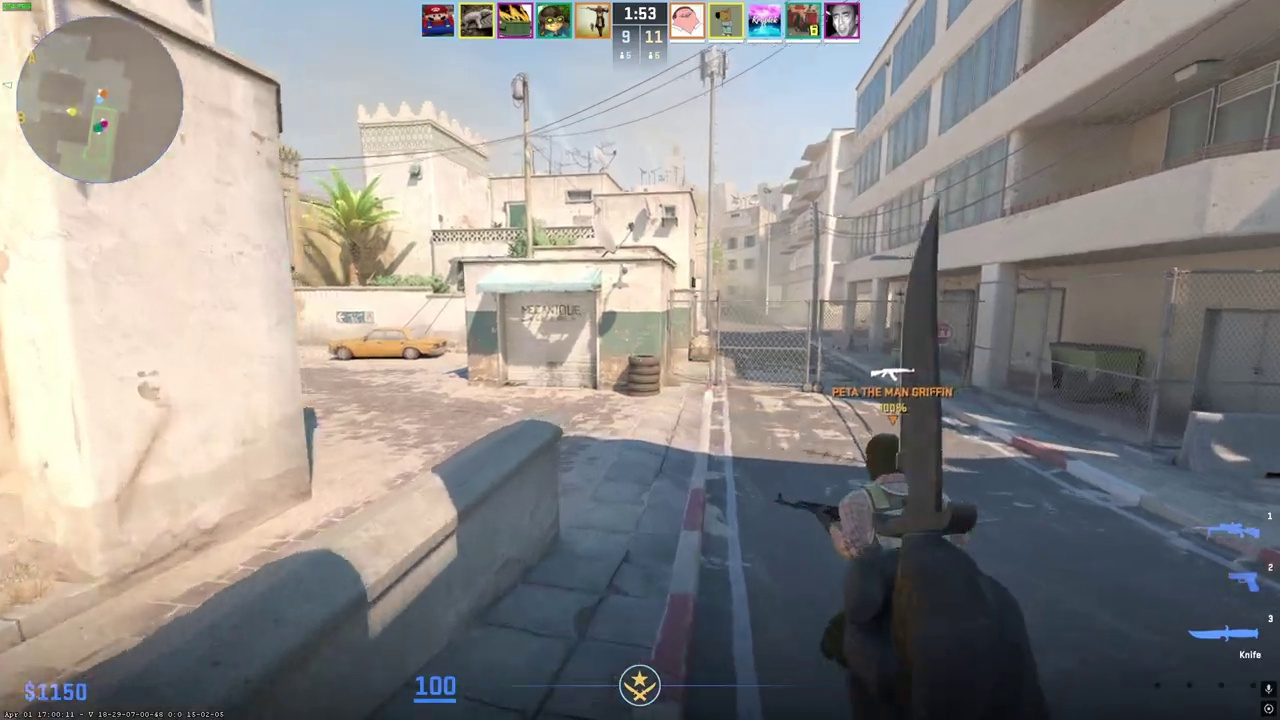Terrorist: (834, 432, 919, 558)
